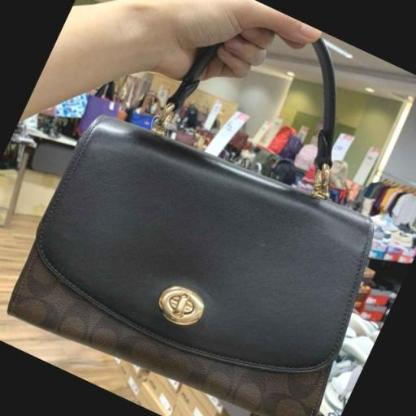bag: (11, 16, 395, 413)
